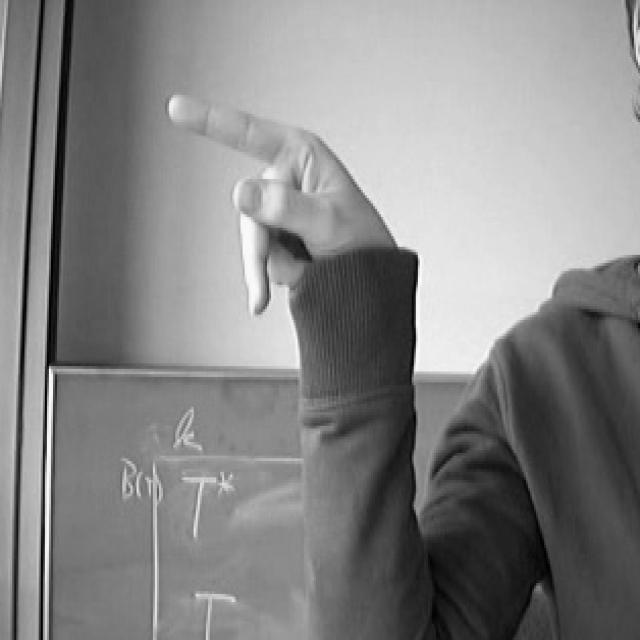P: (146, 66, 417, 326)
